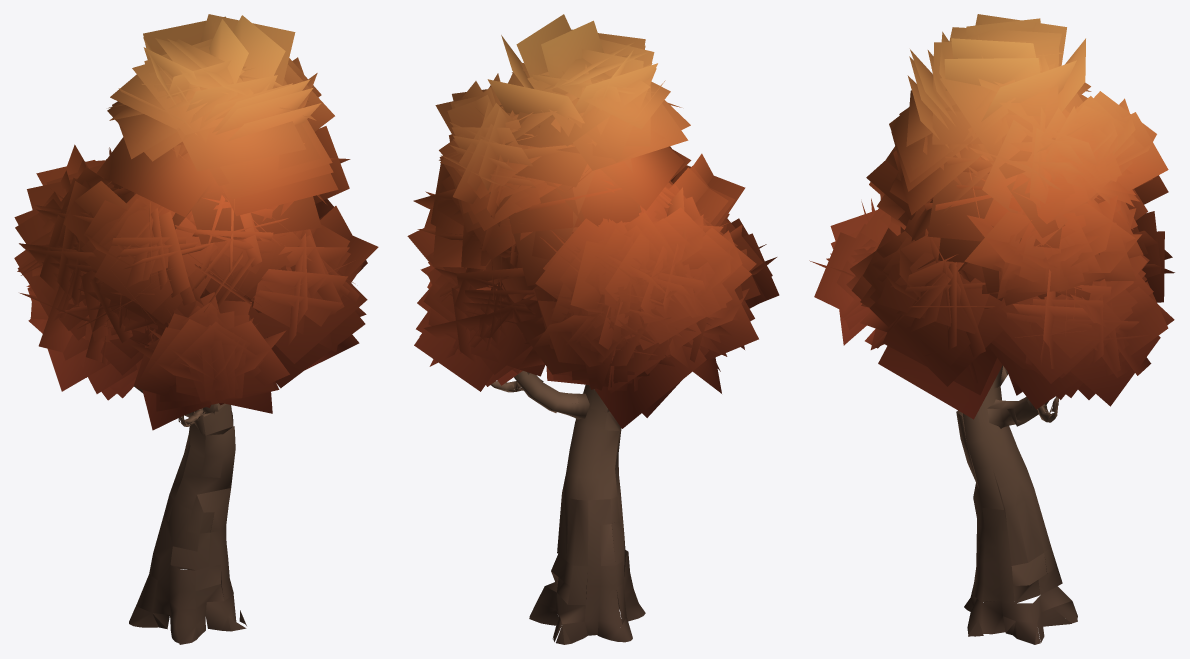
The model's file is q_tree_orange.glb.
The picture shows the model from 3 angles, left to right: view 1: azimuth 30°, elevation 25°; view 2: azimuth 150°, elevation 25°; view 3: azimuth 270°, elevation 25°; orthographic projection. The views are drawn at different scales.
Parts seen in each view (by area): view 1: Leaves, Trunk; view 2: Leaves, Trunk; view 3: Leaves, Trunk.
Part boxes in pixels (bbox=[...]): Leaves: bbox=[14, 14, 378, 430]; Trunk: bbox=[129, 386, 246, 644]; Leaves: bbox=[407, 14, 779, 428]; Trunk: bbox=[491, 371, 645, 644]; Leaves: bbox=[809, 14, 1174, 419]; Trunk: bbox=[956, 365, 1077, 644].
Bounding box in the file's own units: 2.91 × 5 × 2.79.
